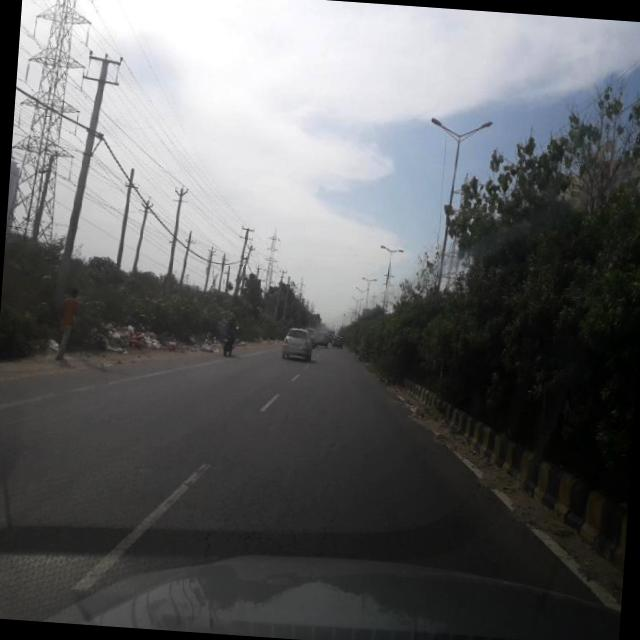crack: (156, 378, 427, 582)
